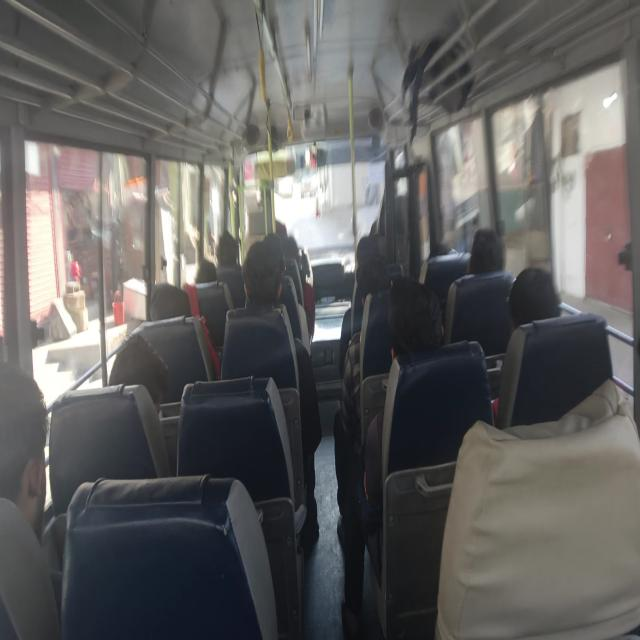person: (0, 362, 81, 508), (384, 286, 446, 372), (119, 338, 170, 429), (140, 276, 202, 334), (511, 273, 559, 347), (242, 246, 288, 320), (361, 251, 411, 316), (345, 224, 391, 282), (215, 231, 253, 277), (467, 223, 497, 267), (194, 257, 224, 300), (264, 236, 293, 276), (277, 226, 304, 259), (434, 231, 457, 247)
